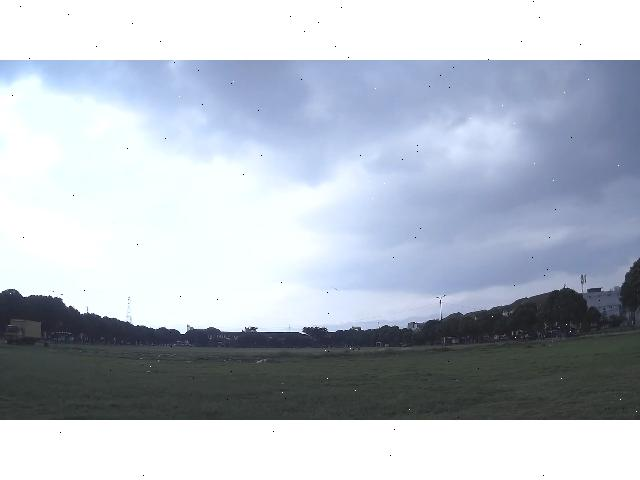Anti-Drone: (320, 281, 354, 295)
